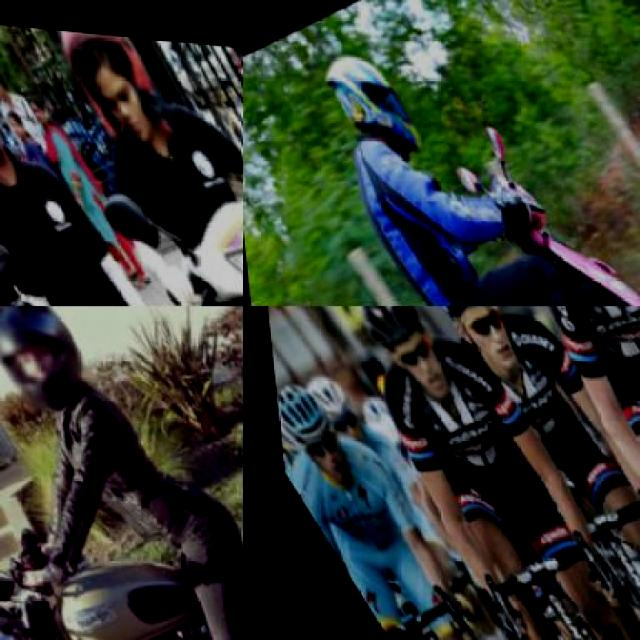With Helmet: (29, 22, 194, 166), (302, 24, 436, 174), (324, 306, 474, 420), (267, 362, 364, 500), (400, 306, 540, 392), (0, 306, 102, 416), (290, 361, 372, 459)
